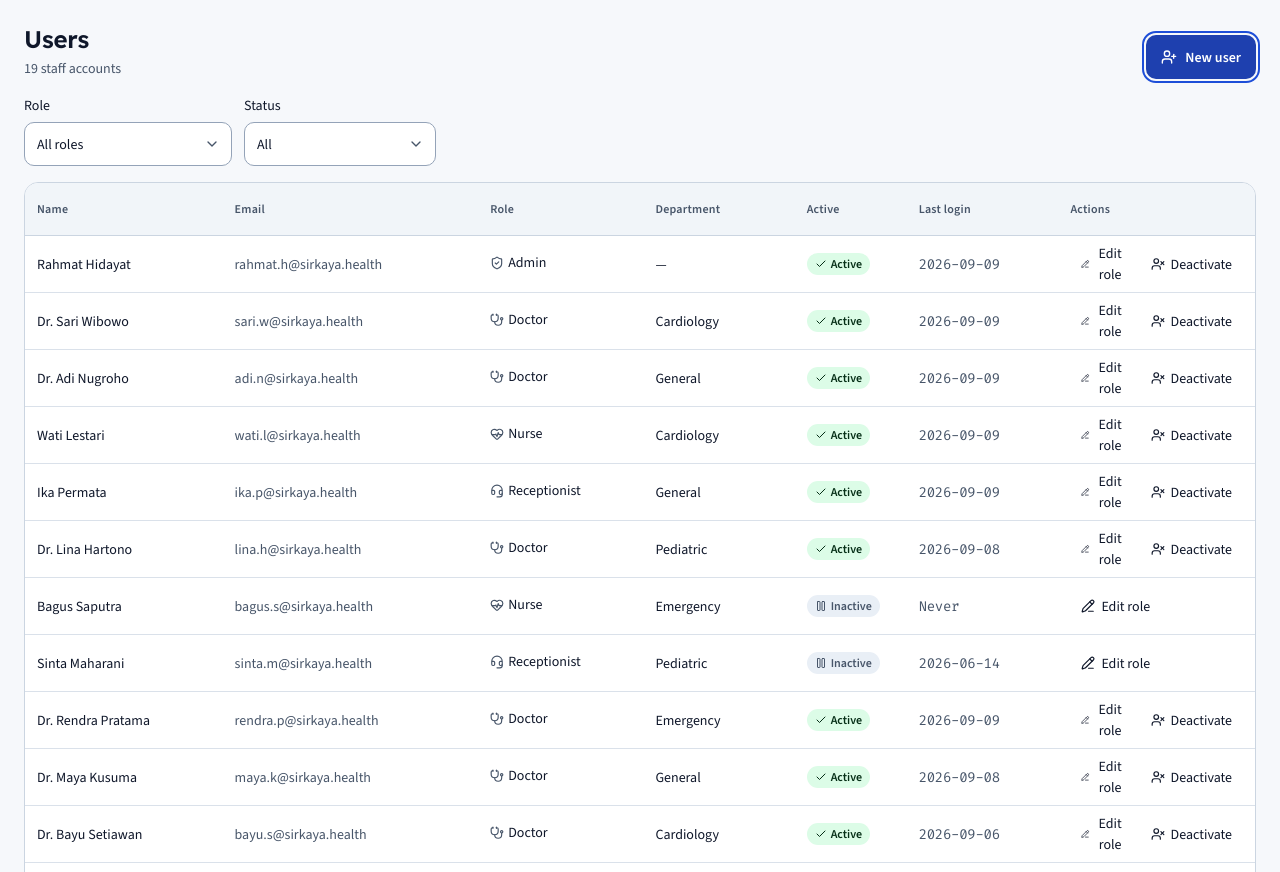
Scenario: AdminUsersPage a11y (#54) › focuses the new-user dialog on open and returns focus on close
Click the button "New user" at (1201, 57), box [1146,35,1256,79]
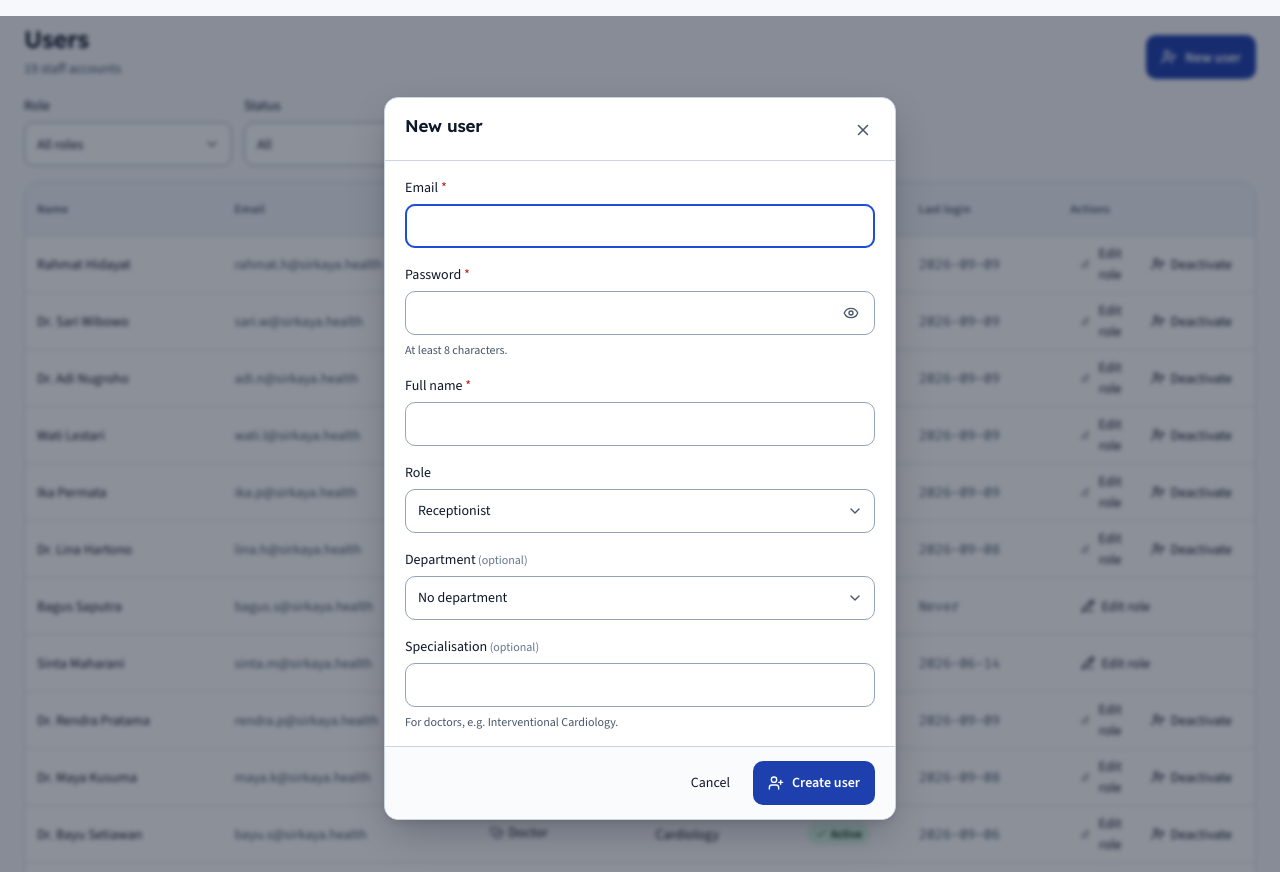
Press Escape
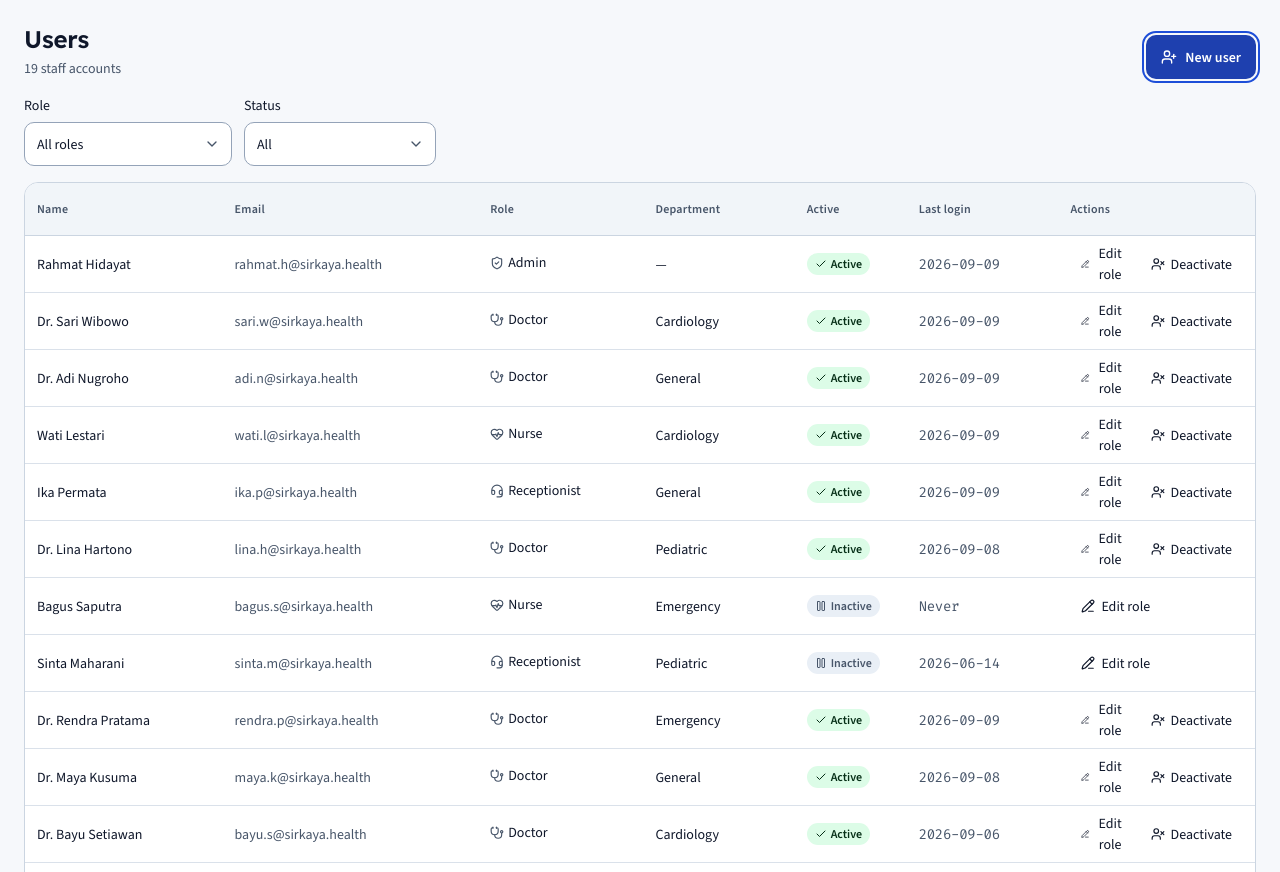
Now the dialog is gone
